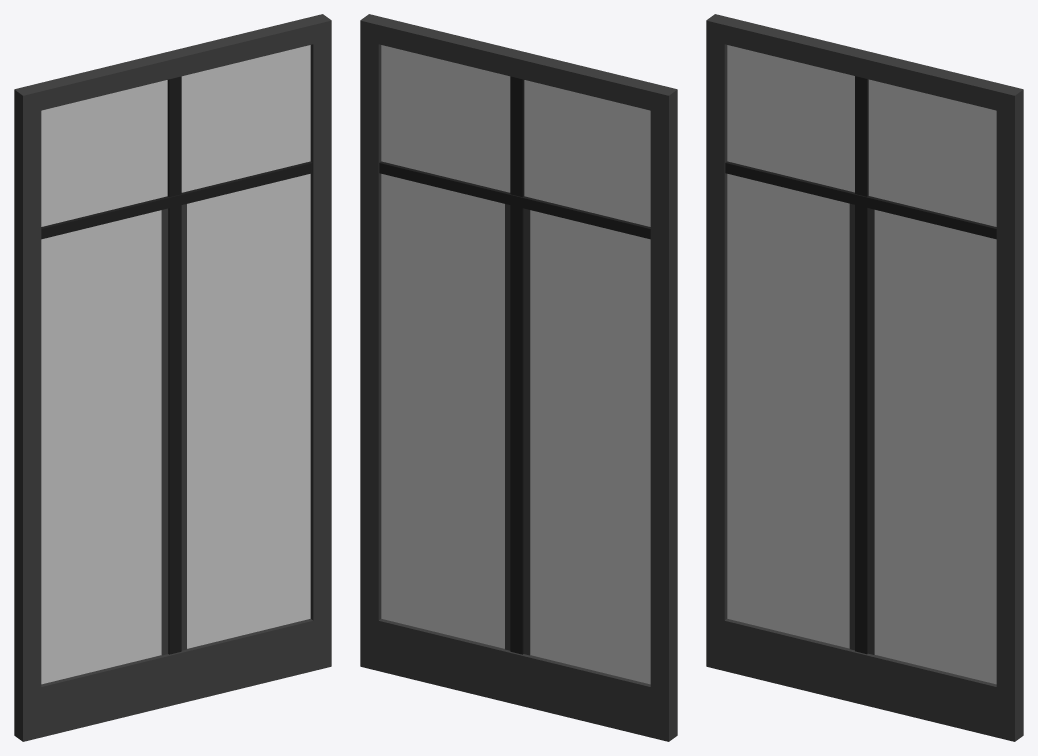
Rendered from wall_023.fbx.
The picture shows the model from 3 angles, left to right: view 1: azimuth 30°, elevation 25°; view 2: azimuth 150°, elevation 25°; view 3: azimuth 330°, elevation 25°; orthographic projection.
Parts seen in each view (by area): view 1: wall_023; view 2: wall_023; view 3: wall_023.
Boxes of the visible parts, <box> form: wall_023: <box>14,14,331,741</box>; wall_023: <box>360,14,677,741</box>; wall_023: <box>706,14,1023,741</box>.
Size of the model in its own units: 200 by 10 by 400.
